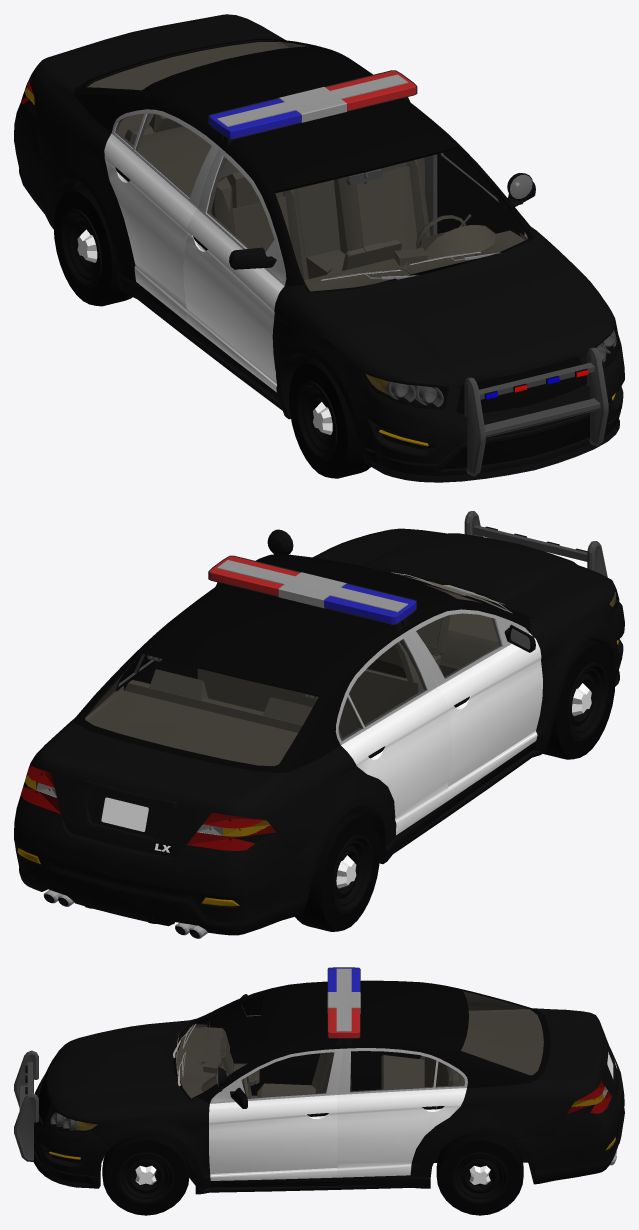
The model's file is police-car.glb.
3 renders of one model, top to bottom at view 1: azimuth 30°, elevation 25°; view 2: azimuth 150°, elevation 25°; view 3: azimuth 270°, elevation 25°, orthographic. The views are drawn at different scales.
Visible parts, largest first — view 1: Material3 (×18), Material2 (×8); view 2: Material3 (×21), Material2 (×6); view 3: Material3 (×20), Material2 (×8).
Boxes of the visible parts, <box> form: Material3 (×18): <box>60,38,619,476</box>; Material2 (×8): <box>14,14,624,482</box>; Material3 (×21): <box>21,511,619,938</box>; Material2 (×6): <box>14,526,624,935</box>; Material3 (×20): <box>14,967,617,1204</box>; Material2 (×8): <box>25,989,624,1215</box>.
Size of the model in its own units: 10.45 by 7.9 by 25.6.
